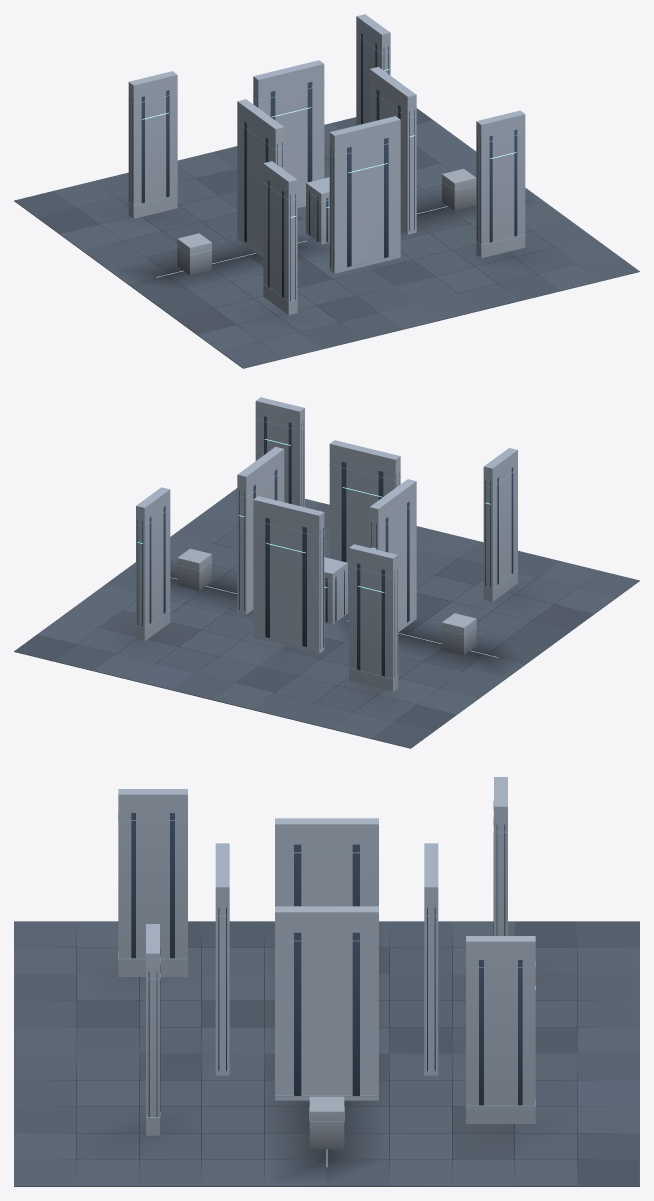
File: 01_world.glb
3 renders of one model, top to bottom at view 1: azimuth 30°, elevation 25°; view 2: azimuth 150°, elevation 25°; view 3: azimuth 270°, elevation 25°, orthographic. The views are drawn at different scales.
Parts seen in each view (by area): view 1: world_11_body_nocol, world_01_floor_noshadow_nocol, world_11_floor_noshadow_nocol, world_00_floor_noshadow_nocol, world_01_body_nocol, world_10_body_nocol, world_00_body_nocol, world_10_floor_noshadow_nocol, world_11_panel_noshadow_nocol, world_01_panel_noshadow_nocol, world_10_panel_noshadow_nocol, world_00_panel_noshadow_nocol; view 2: world_00_floor_noshadow_nocol, world_10_floor_noshadow_nocol, world_01_floor_noshadow_nocol, world_11_body_nocol, world_10_body_nocol, world_01_body_nocol, world_00_body_nocol, world_11_floor_noshadow_nocol, world_10_panel_noshadow_nocol, world_11_panel_noshadow_nocol, world_01_panel_noshadow_nocol, world_00_panel_noshadow_nocol; view 3: world_11_floor_noshadow_nocol, world_10_floor_noshadow_nocol, world_01_floor_noshadow_nocol, world_11_body_nocol, world_00_floor_noshadow_nocol, world_01_body_nocol, world_10_body_nocol, world_11_panel_noshadow_nocol, world_01_panel_noshadow_nocol, world_00_body_nocol, world_10_panel_noshadow_nocol, world_11_trim_noshadow_nocol.
Part boxes in pixels (x1,y1,x2,y2): world_11_body_nocol: (306, 67, 525, 273); world_01_floor_noshadow_nocol: (128, 239, 441, 368); world_11_floor_noshadow_nocol: (368, 188, 639, 320); world_00_floor_noshadow_nocol: (14, 152, 313, 284); world_01_body_nocol: (177, 99, 297, 314); world_10_body_nocol: (253, 14, 390, 207); world_00_body_nocol: (128, 71, 177, 218); world_10_floor_noshadow_nocol: (213, 108, 476, 220); world_11_panel_noshadow_nocol: (309, 89, 517, 268); world_01_panel_noshadow_nocol: (244, 121, 295, 301); world_10_panel_noshadow_nocol: (254, 33, 388, 182); world_00_panel_noshadow_nocol: (129, 90, 169, 204); world_00_floor_noshadow_nocol: (212, 619, 525, 748); world_10_floor_noshadow_nocol: (14, 567, 285, 699); world_01_floor_noshadow_nocol: (340, 532, 639, 664); world_11_body_nocol: (177, 397, 400, 624); world_10_body_nocol: (136, 487, 324, 653); world_01_body_nocol: (369, 448, 517, 655); world_00_body_nocol: (349, 544, 398, 691); world_11_floor_noshadow_nocol: (129, 488, 440, 599); world_10_panel_noshadow_nocol: (137, 506, 323, 648); world_11_panel_noshadow_nocol: (239, 416, 399, 622); world_01_panel_noshadow_nocol: (371, 467, 513, 622); world_00_panel_noshadow_nocol: (357, 563, 397, 677); world_11_floor_noshadow_nocol: (14, 1053, 326, 1186); world_10_floor_noshadow_nocol: (327, 1053, 639, 1186); world_01_floor_noshadow_nocol: (14, 921, 274, 1053); world_11_body_nocol: (146, 843, 378, 1149); world_00_floor_noshadow_nocol: (379, 921, 639, 1053); world_01_body_nocol: (118, 789, 378, 976); world_10_body_nocol: (424, 843, 535, 1123); world_11_panel_noshadow_nocol: (148, 907, 359, 1117); world_01_panel_noshadow_nocol: (131, 813, 359, 958); world_00_body_nocol: (494, 777, 507, 935); world_10_panel_noshadow_nocol: (427, 907, 522, 1105); world_11_trim_noshadow_nocol: (146, 915, 378, 1121).
Size of the model in its own units: 90 by 32.4 by 90.
